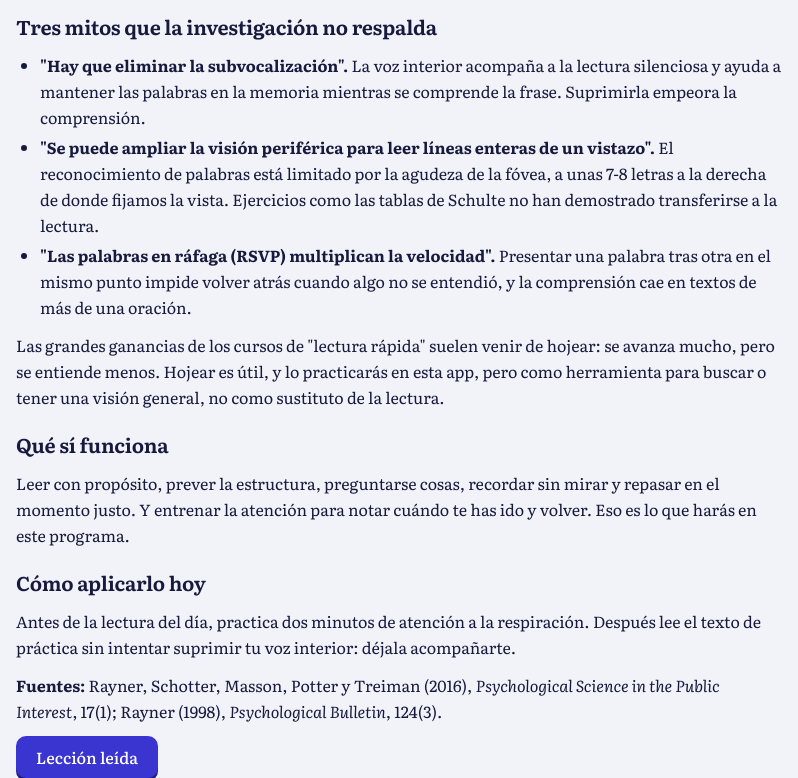
Test case: DayView › al volver a un día a medias, conserva los pasos hechos
Later steps or results of the test are not shown.
(page scrolled)
Click the button "Lección leída". click: [87, 757]
box: [16,736,158,777]
(page scrolled)
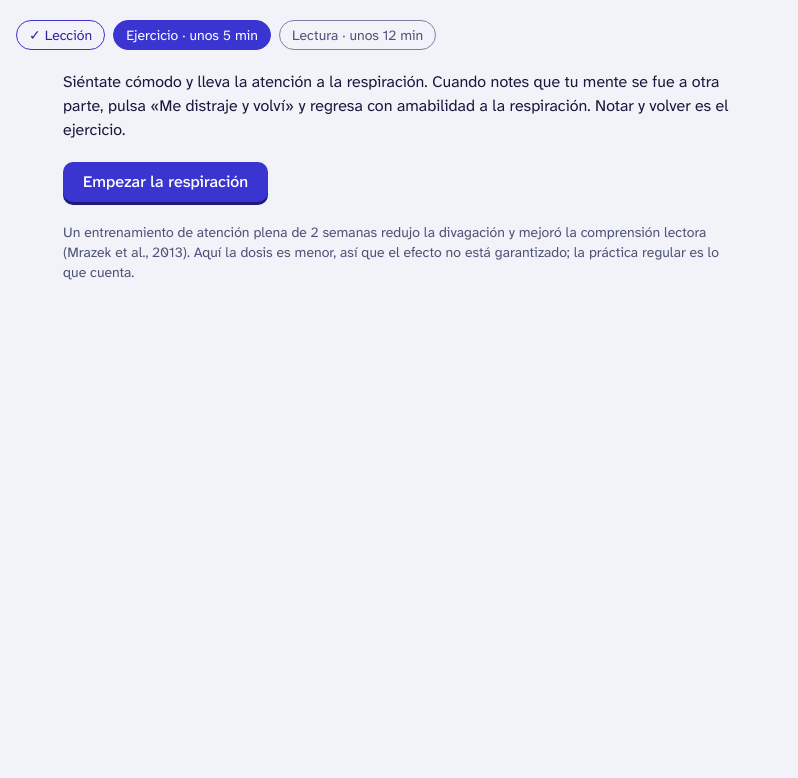
Result: the button "Empezar la respiración" is shown at [63,162,268,202]
